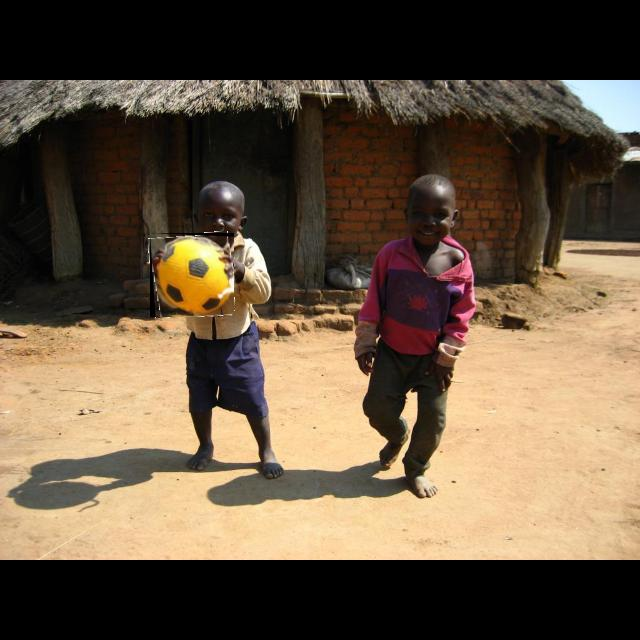Football: (150, 233, 234, 317)
